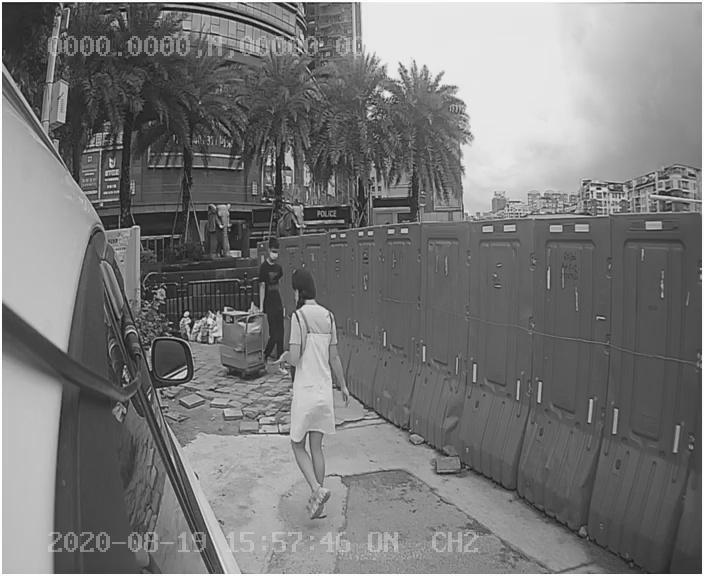person: (271, 262, 357, 525)
